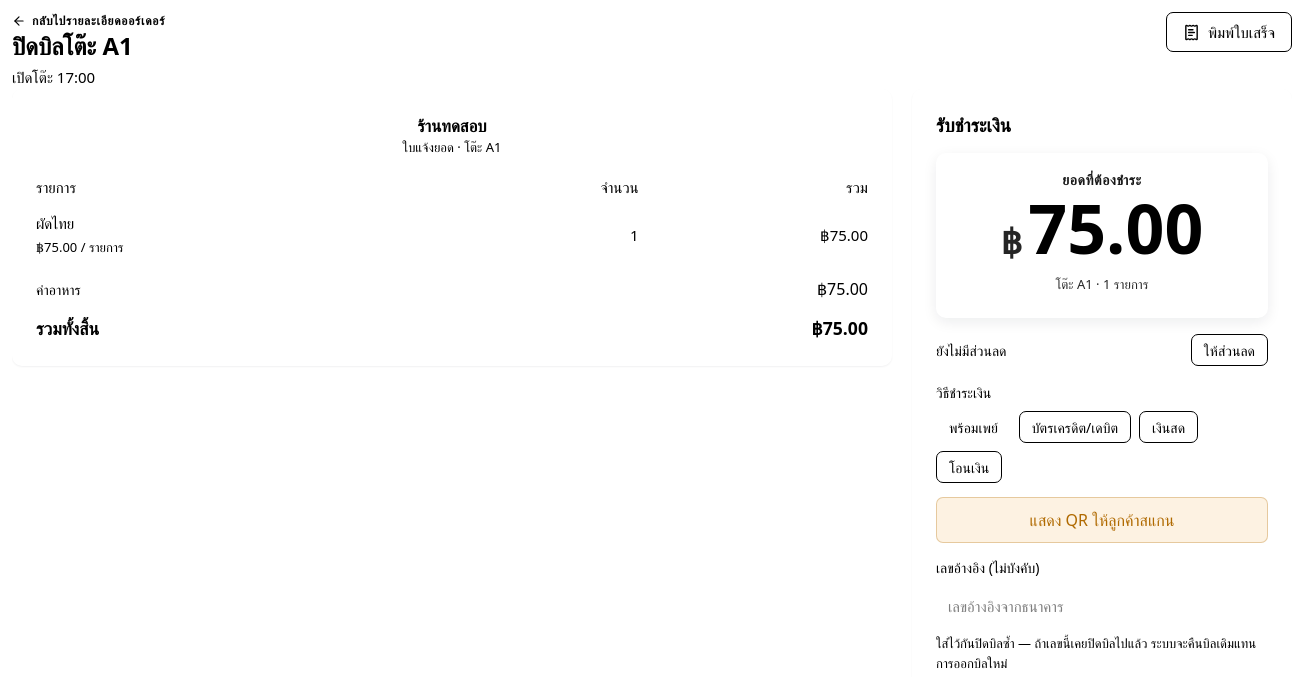
Test: หน้าปิดบิลโต๊ะ — เงินทอน › รับพอดี → ไม่มีเงินทอน
Click the button "เงินสด": (1169, 428) [1139, 412, 1198, 444]
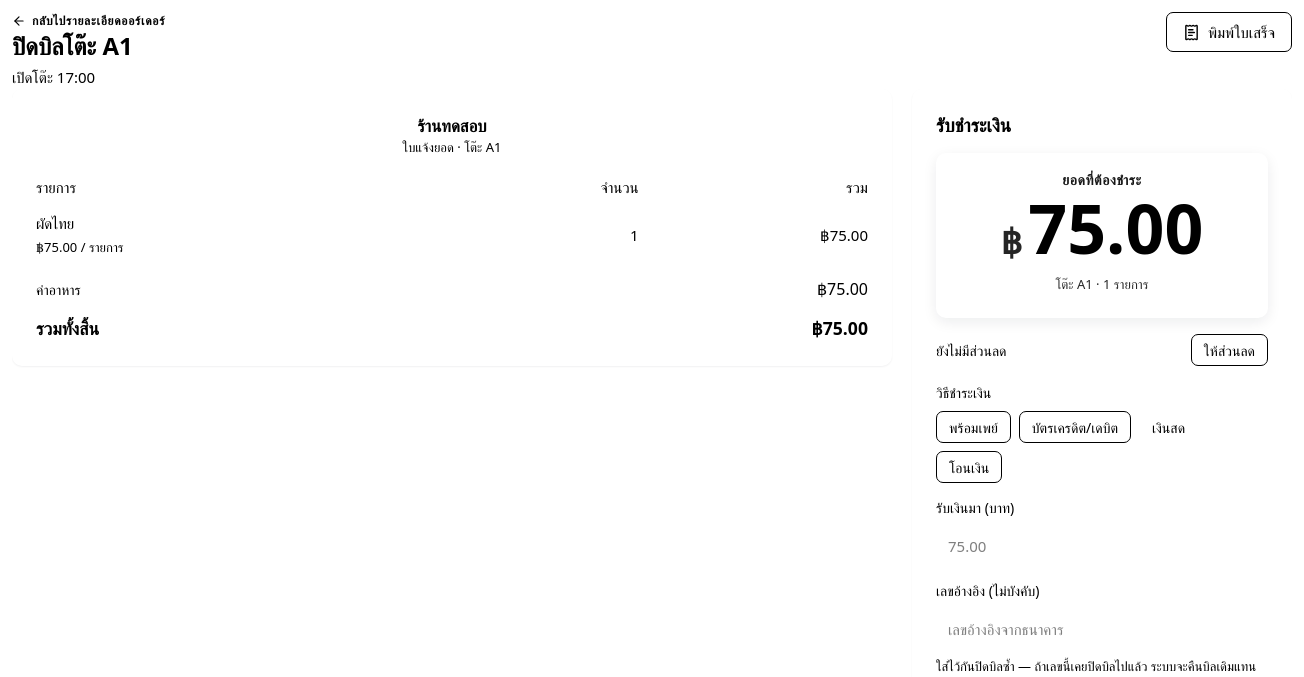
In the field labelled "รับเงินมา (บาท)": (1102, 546) [936, 526, 1268, 566], type "75"
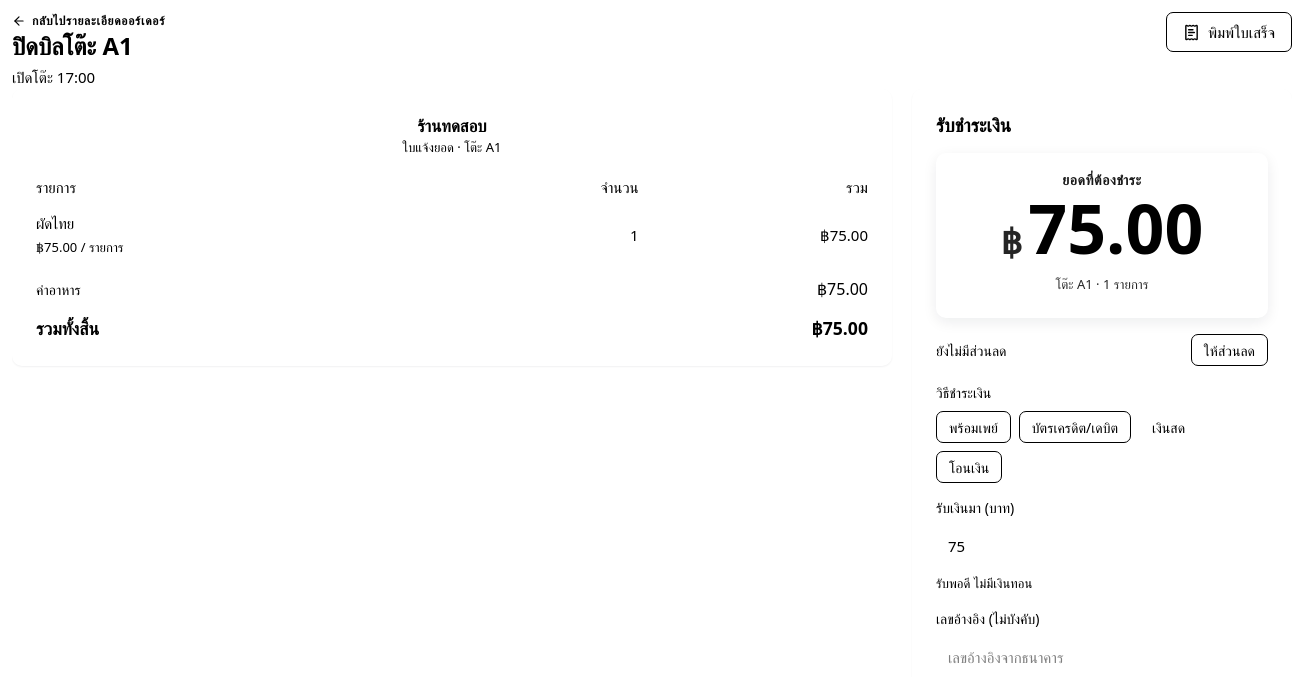
Result: the text "รับพอดี ไม่มีเงินทอน" is shown at [936, 574, 1032, 592]
